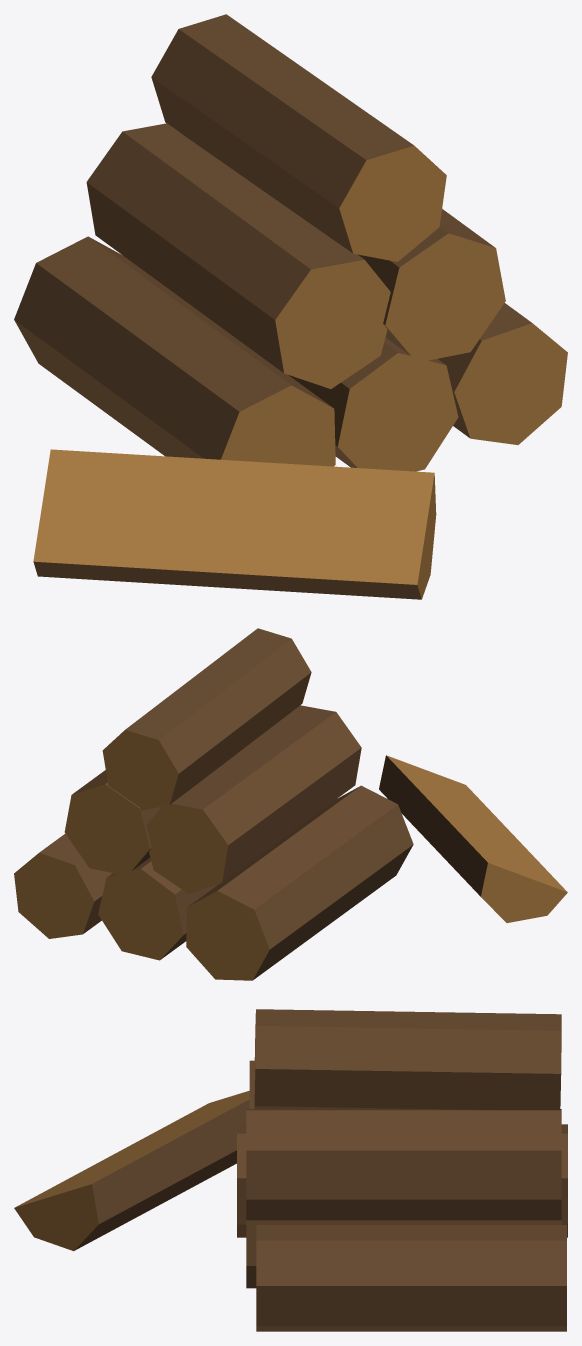
The model's file is logs.glb.
3 views of the same model, one above another, from view 1: azimuth 30°, elevation 25°; view 2: azimuth 150°, elevation 25°; view 3: azimuth 270°, elevation 25° (orthographic). The views are drawn at different scales.
Visible parts, largest first — view 1: logs; view 2: logs; view 3: logs.
Boxes of the visible parts, left/top/right/bottom form: logs: left=14, top=14, right=567, bottom=599; logs: left=14, top=628, right=567, bottom=980; logs: left=14, top=1009, right=567, bottom=1331.
Bounding box in the file's own units: 1.74 × 0.9594 × 1.82.
1 material, 1 textured.
